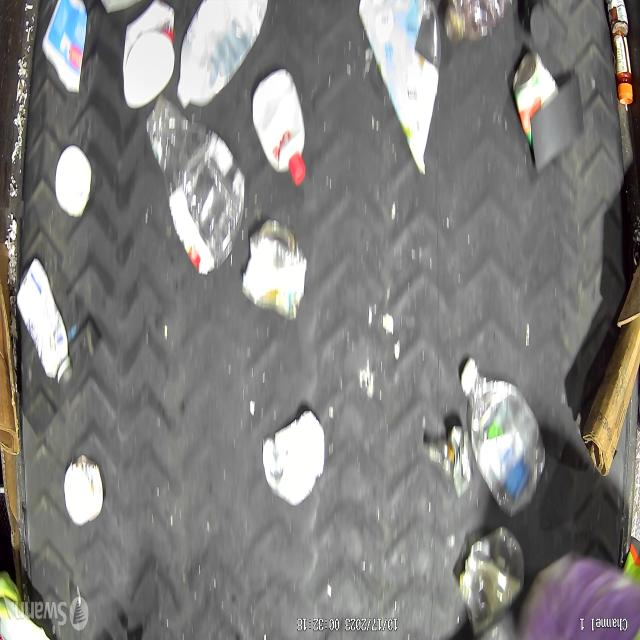can: (513, 51, 558, 148)
plastic_bottle: (145, 99, 244, 278), (462, 358, 544, 512), (445, 0, 515, 44)
